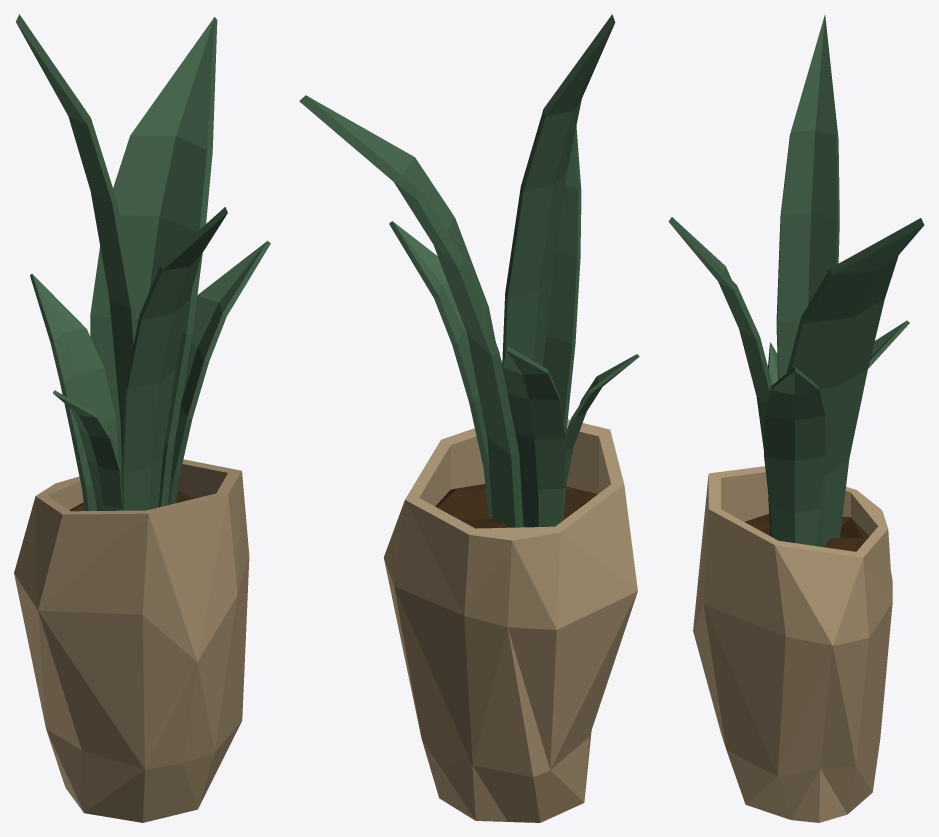
The model's file is Int_PlanterLarge01_1.fbx.
3 views of the same model, side by side, from view 1: azimuth 30°, elevation 25°; view 2: azimuth 150°, elevation 25°; view 3: azimuth 270°, elevation 25° (orthographic). The views are drawn at different scales.
Visible parts, largest first — view 1: Int_PlanterLarge01_1; view 2: Int_PlanterLarge01_1; view 3: Int_PlanterLarge01_1.
Part boxes in pixels (box(x1,y1,x2,y2)): Int_PlanterLarge01_1: box(14, 14, 270, 822); Int_PlanterLarge01_1: box(299, 14, 639, 822); Int_PlanterLarge01_1: box(668, 15, 924, 822).
Size of what is drawn, in the model's own units: 67.11 by 63.54 by 200.
